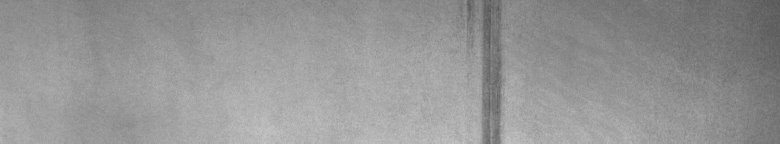ka: (460, 4, 508, 136)
